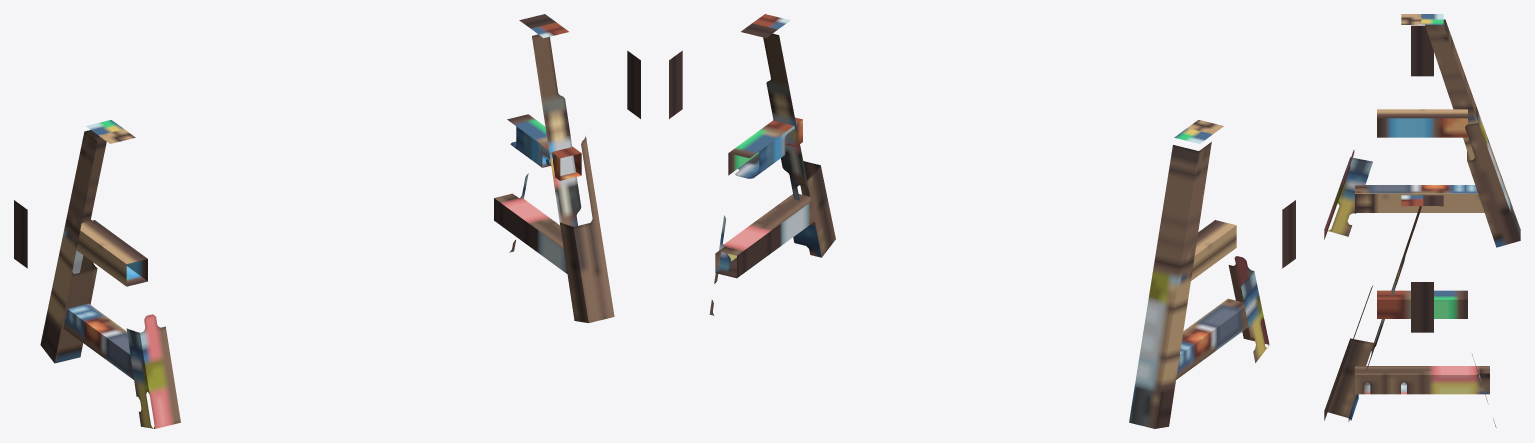
The model's file is farikDA.fbx.
3 views of the same model, side by side, from view 1: azimuth 30°, elevation 25°; view 2: azimuth 150°, elevation 25°; view 3: azimuth 270°, elevation 25° (orthographic). The views are drawn at different scales.
Parts seen in each view (by area): view 1: Cube; view 2: Cube; view 3: Cube.
Part boxes in pixels (x1,y1,x2,y2): Cube: [14, 14, 640, 428]; Cube: [669, 14, 1295, 428]; Cube: [1324, 14, 1520, 427].
Bounding box in the file's own units: 300 × 122 × 97.25.
